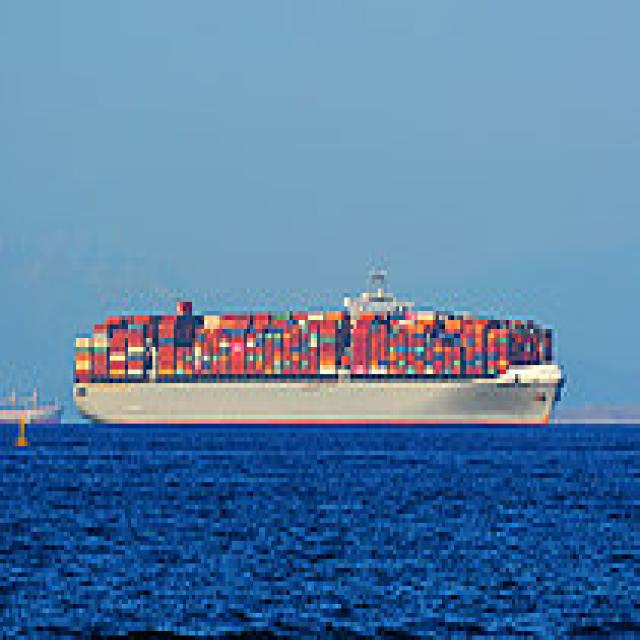Cargo: (67, 266, 564, 424)
